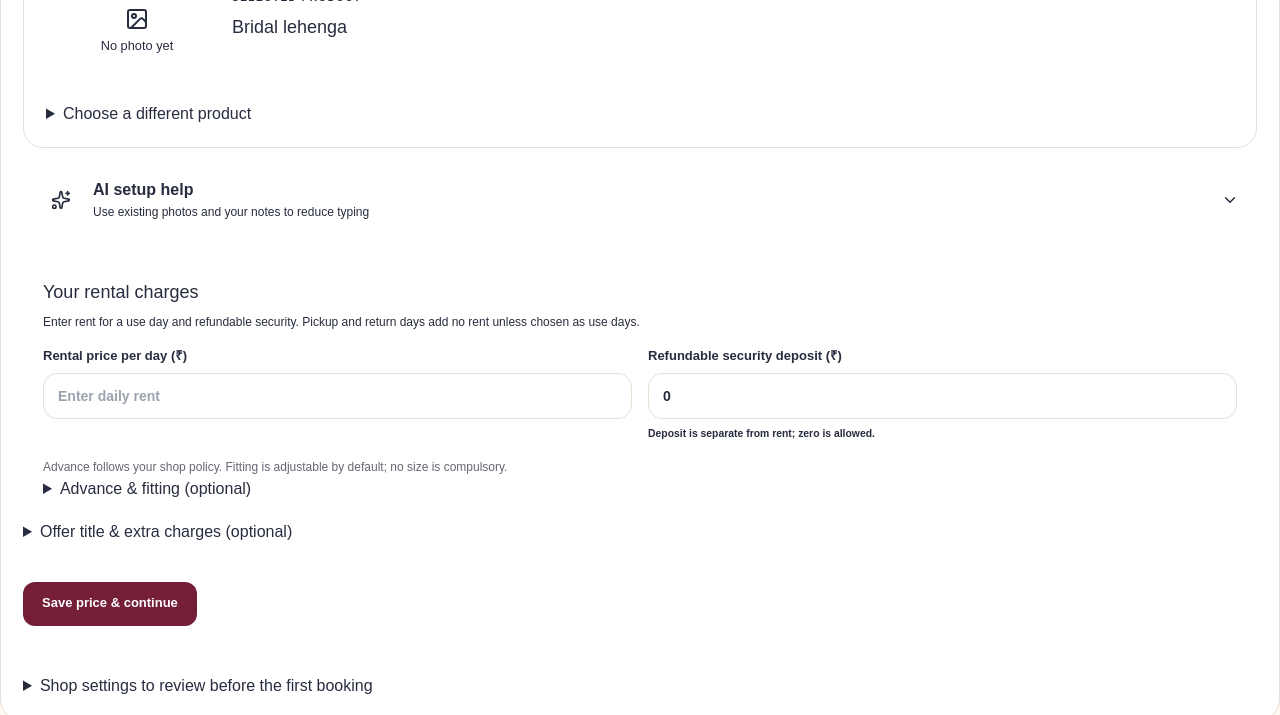
Test case: linked product setup resolves the exact product and registers only the owner-counted new quantity
(page scrolled)
Expected: the element labelled "Offer title" holds "Bridal lehenga", [40,524,292,540]
Type "500" into the number field labelled "Rental price per day (₹)" at (338, 396), box [43,373,632,419]
Replace the text in the number field labelled "Refundable security deposit" with "1000" at (942, 396), box [648,373,1237,419]
Click the button "Save price & continue" at (110, 604), box [23,582,197,626]
(page scrolled)
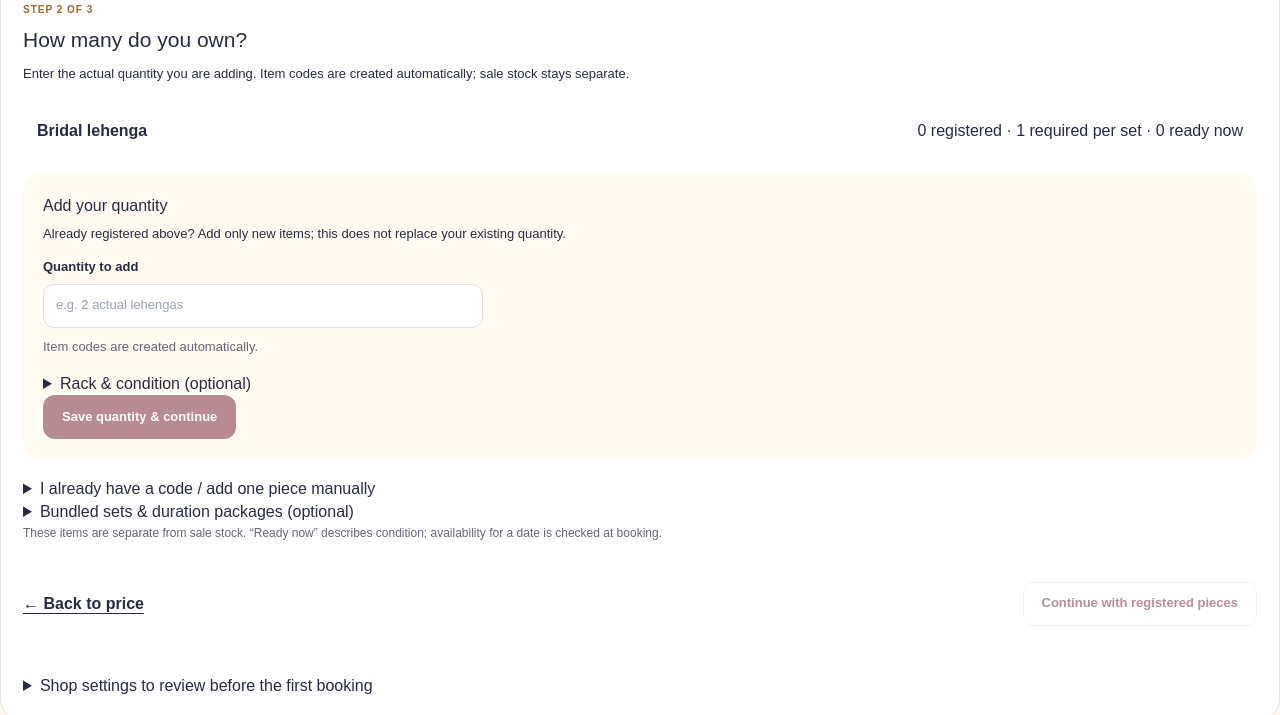
Expected: the heading "How many do you own?" is shown, [23,28,247,52]
Type "3" into the number field labelled "Quantity to add" at (263, 306), box [43,284,483,328]
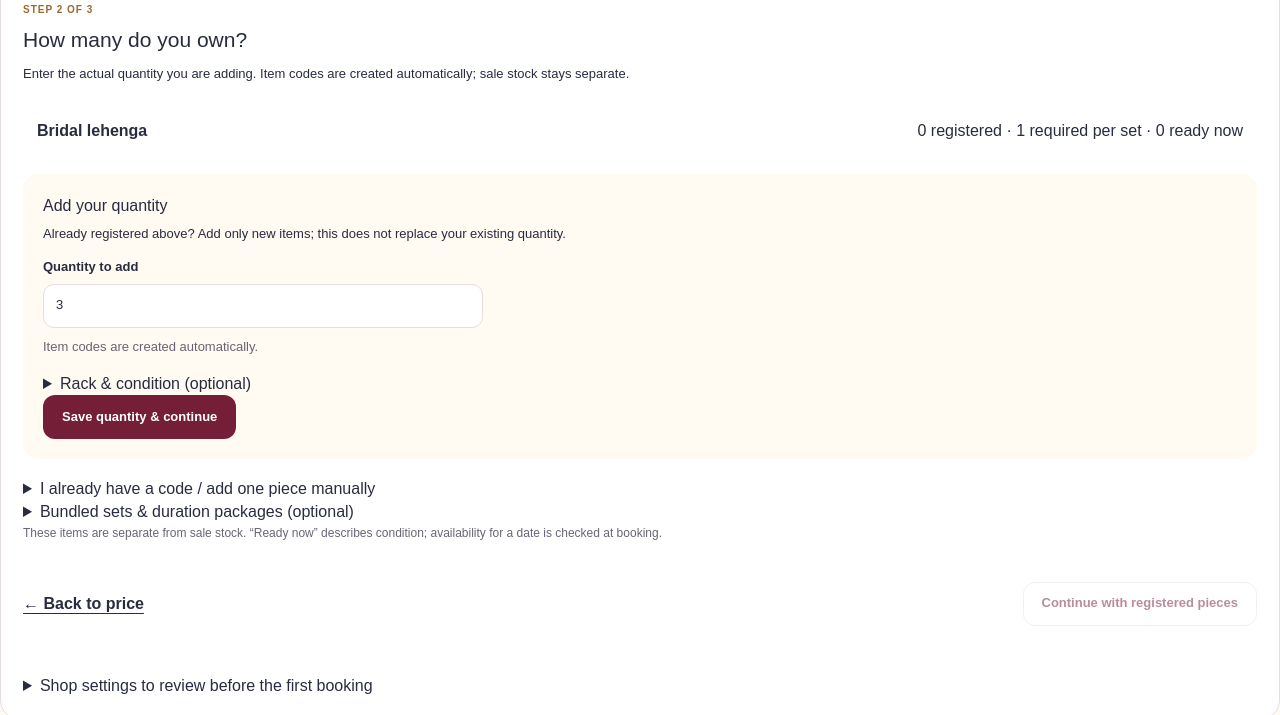
Click the button "Save quantity & continue" at (140, 417), box [43,395,236,439]
(page scrolled)
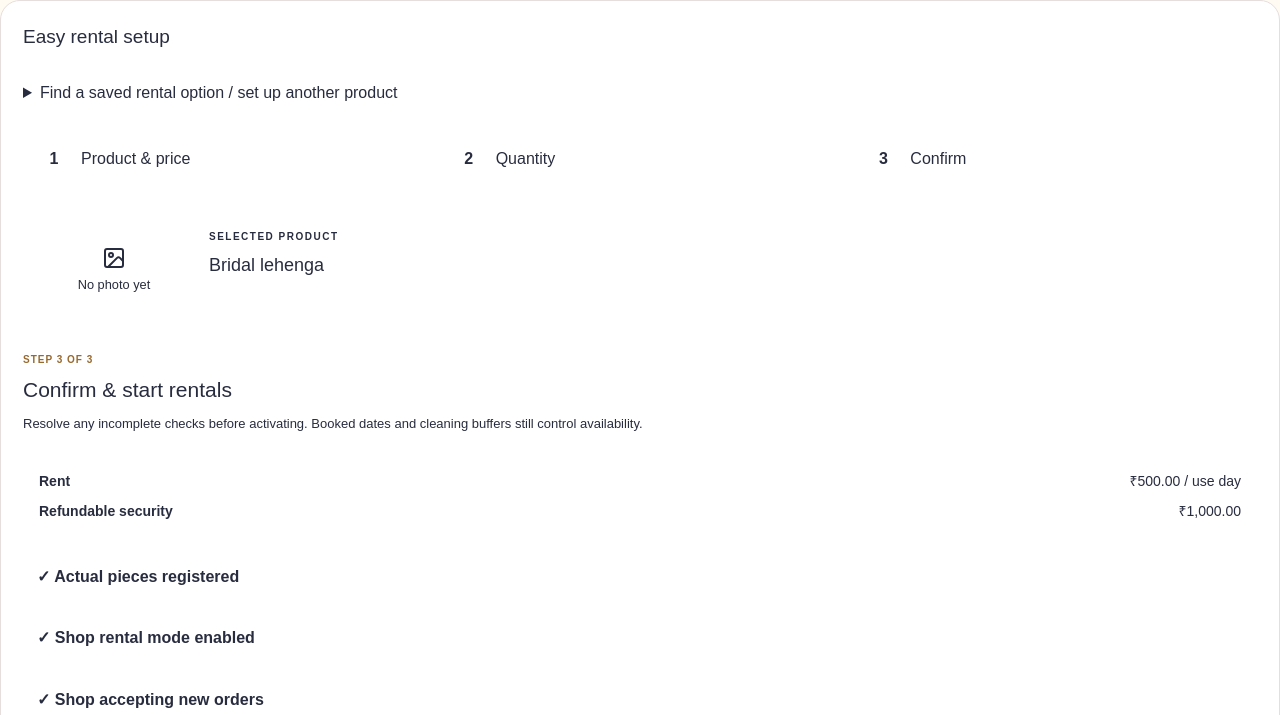
Expected: the heading "Confirm & start rentals" is shown, [23,378,232,402]
Click the button "1 Product & price" at (136, 159), box [23,128,428,190]
(page scrolled)
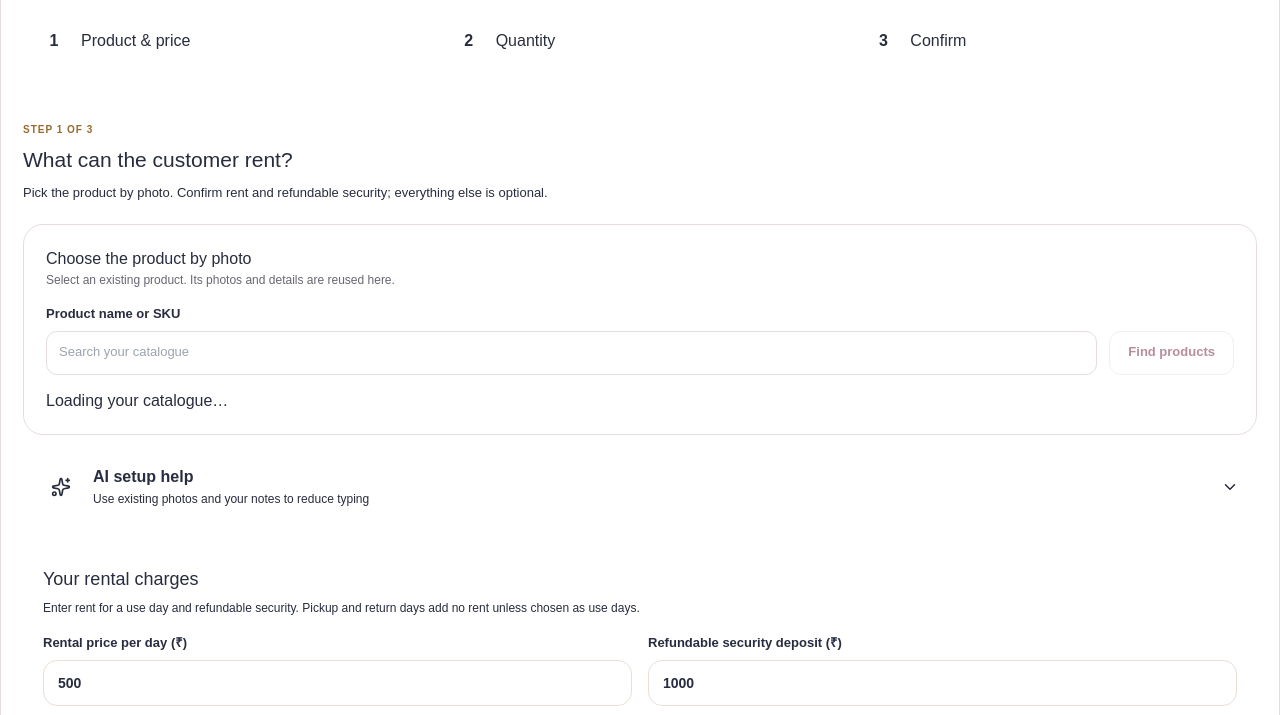
Replace the text in the number field labelled "Rental price per day (₹)" with "600" at (338, 683), box [43,660,632,706]
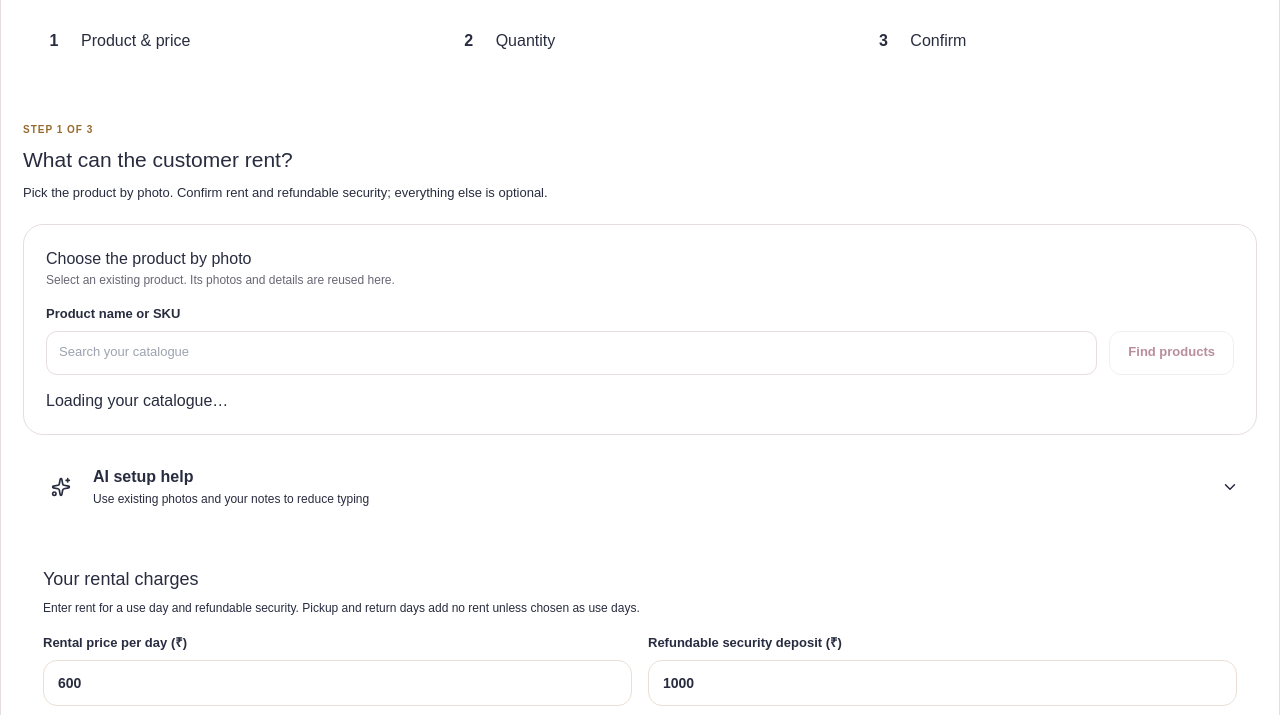
Click the button "3 Confirm" at (938, 41), box [852,10,1257,72]
(page scrolled)
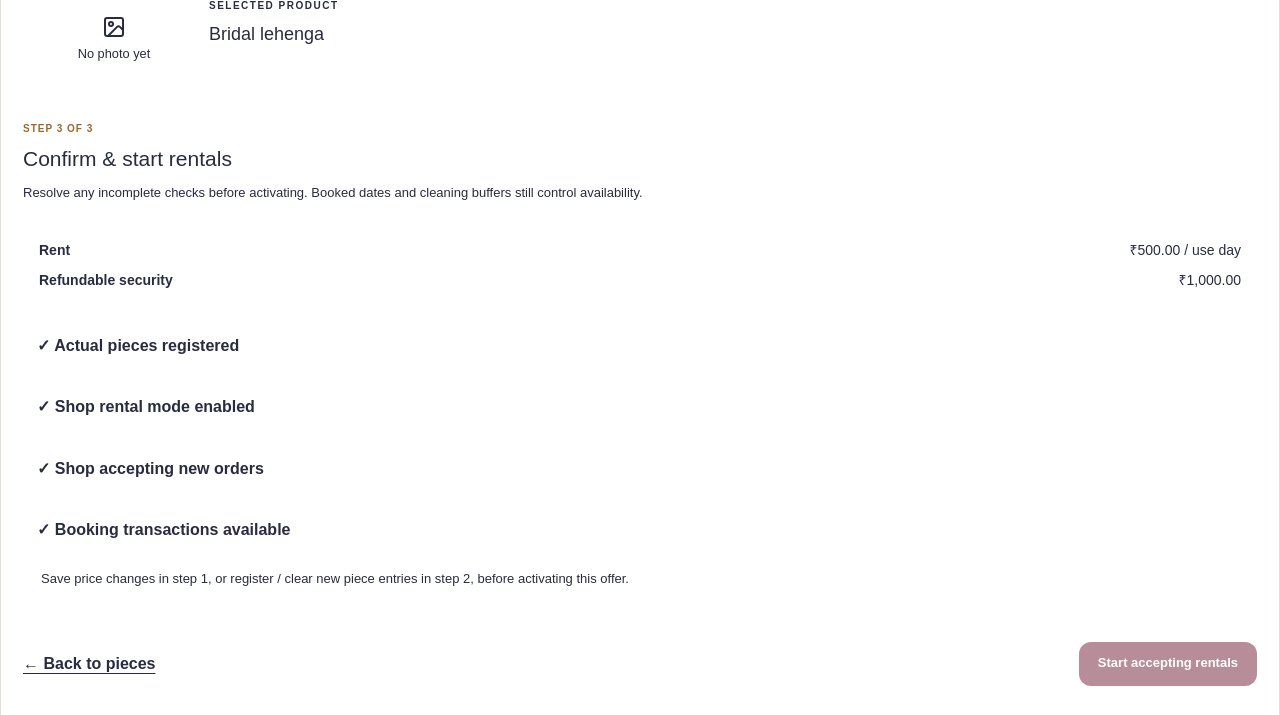
Expected: the button "Start accepting rentals" is disabled, [1079,642,1257,686]
Expected: the text "Save price changes in step 1" is shown, [41,571,629,586]
